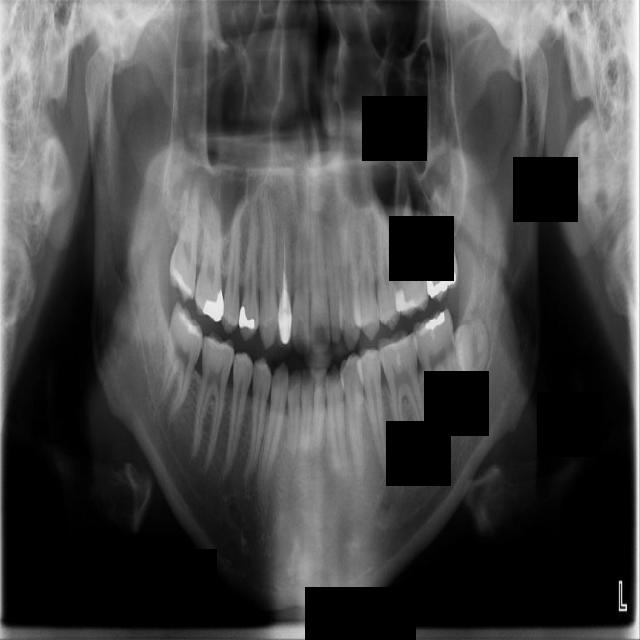52: (407, 307, 463, 368), (375, 328, 423, 384), (392, 263, 431, 320), (423, 248, 459, 302), (169, 244, 196, 304), (194, 273, 224, 322), (237, 290, 262, 344), (274, 288, 294, 351)
73: (275, 219, 295, 308)
BioHorizons Implant: (421, 176, 459, 304)
Biomet 3i Implant: (451, 317, 491, 396)
Blue Sky Bio Implant: (410, 308, 466, 430)
Caries: (168, 189, 200, 304)
Implant: (154, 301, 209, 428)
